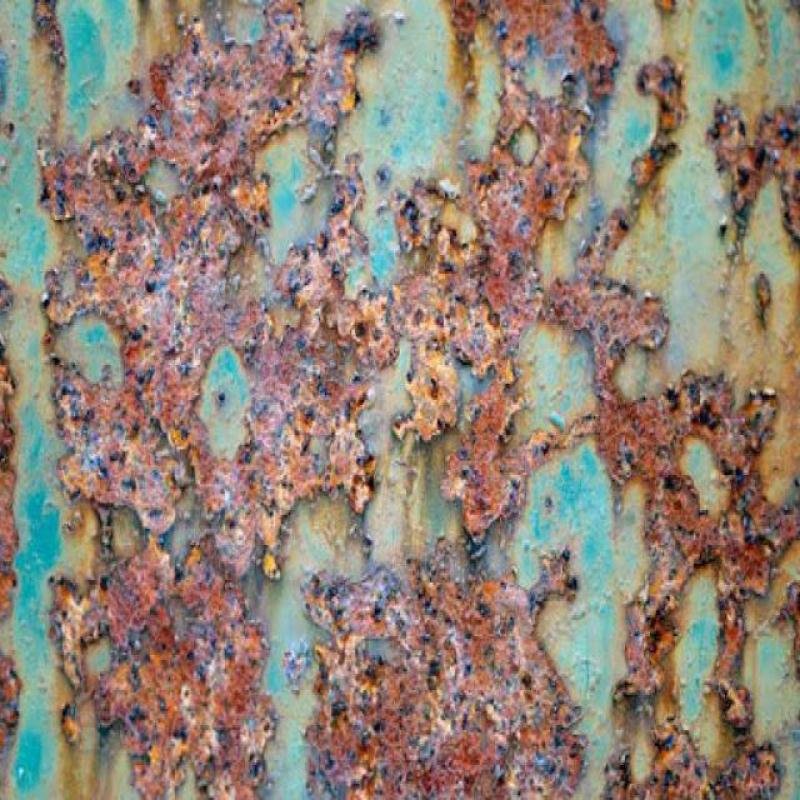corrosion: (140, 17, 718, 745)
